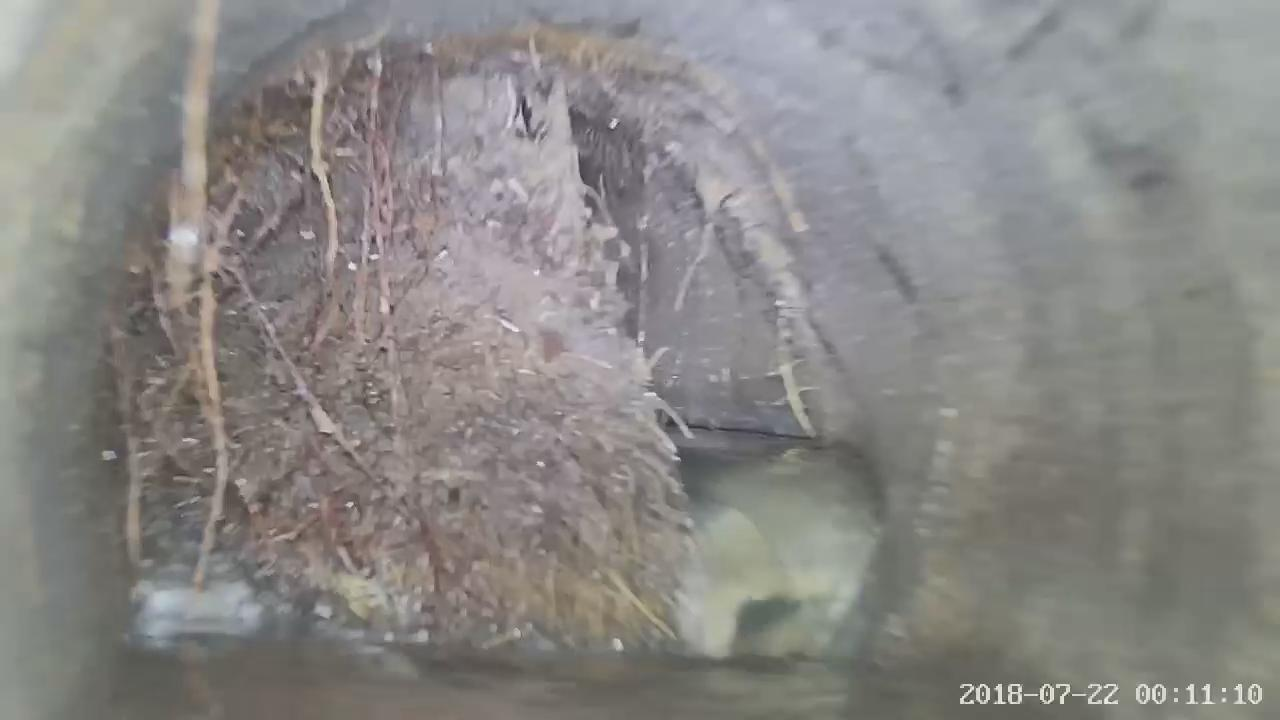SG: (112, 0, 695, 648)
